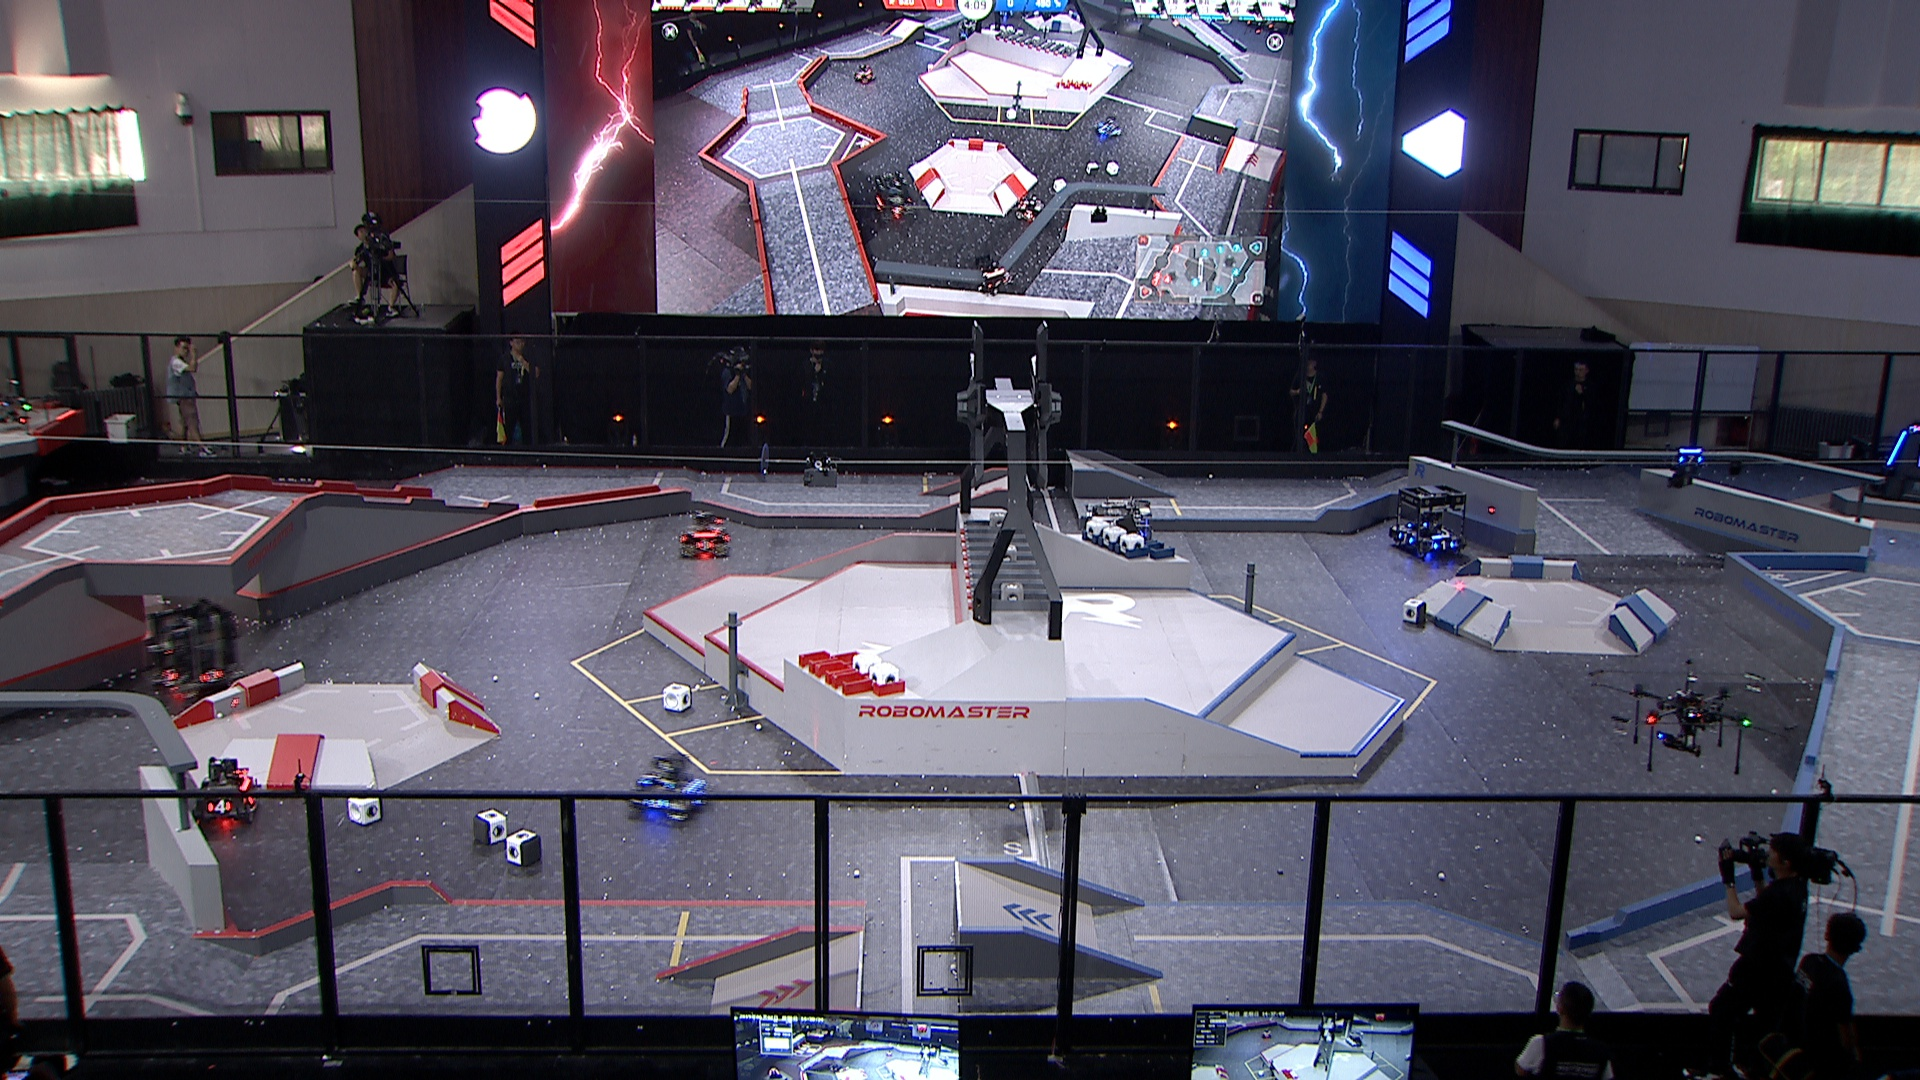armor: (1887, 429, 1908, 467), (207, 798, 233, 818), (199, 669, 225, 687), (640, 796, 670, 811), (1396, 529, 1418, 549), (158, 666, 177, 687), (636, 770, 657, 789), (694, 537, 717, 553), (1677, 454, 1702, 467), (1432, 541, 1458, 553)
base: (1866, 425, 1920, 508)
car: (144, 599, 240, 700), (1077, 498, 1156, 585), (1390, 483, 1470, 562), (629, 754, 711, 823), (190, 760, 258, 825), (679, 508, 731, 556)
ignore: (874, 173, 916, 222), (975, 257, 1013, 299), (1011, 194, 1046, 225), (1096, 117, 1125, 140), (855, 63, 877, 84), (959, 18, 978, 40)
watcher: (1667, 448, 1705, 489)
